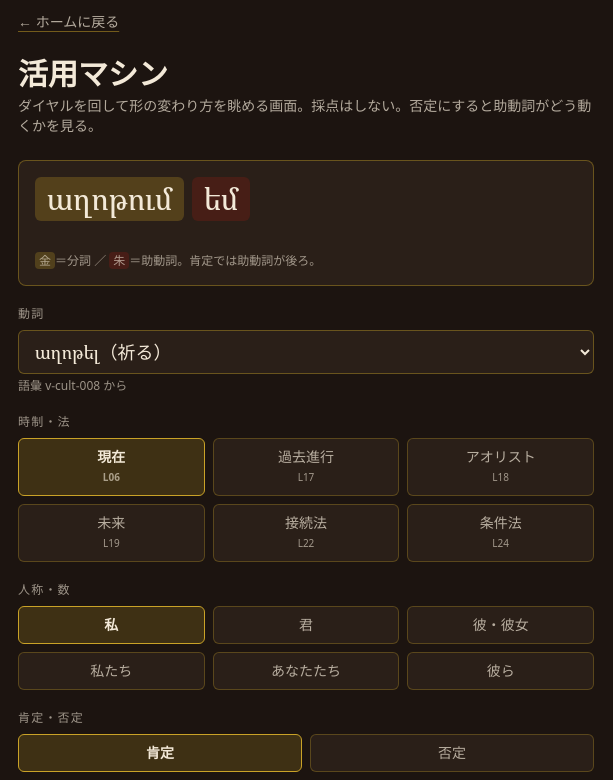
ConjugationMachine › moves the auxiliary in front when the polarity dial flips to negative (L07)
The image size is (613, 780).
Select "գրել（書く）" in the dropdown. click: [306, 352]
box: [18,330,594,374]
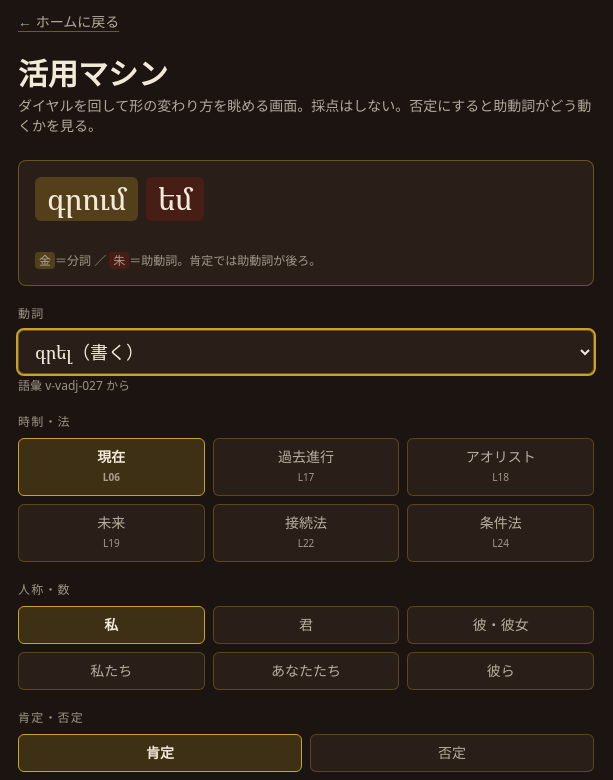
Click the button "否定". click: [452, 753]
box: [310,734,594,772]
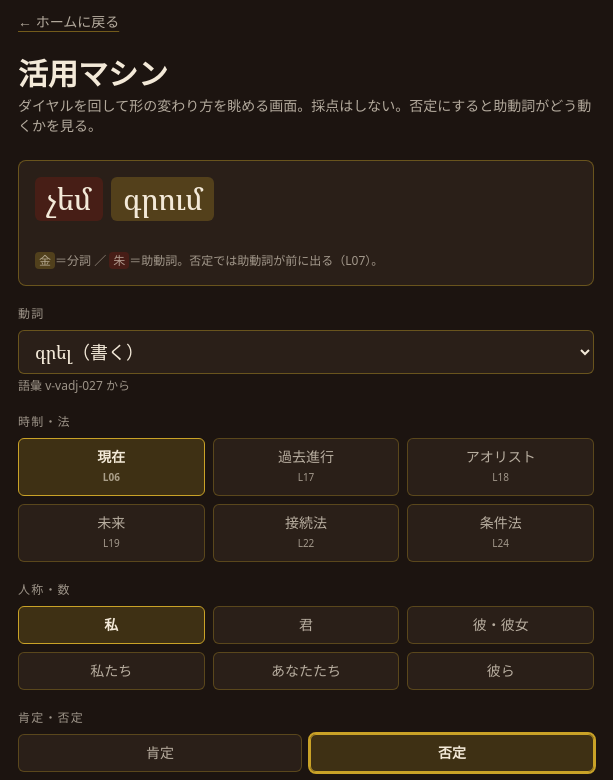
Result: the text "չեմ" is shown at [35,177,103,221]
Result: the text "金＝分詞 ／ 朱＝助動詞。否定では助動詞が前に出る（L07）。" is shown at [35,252,383,269]
